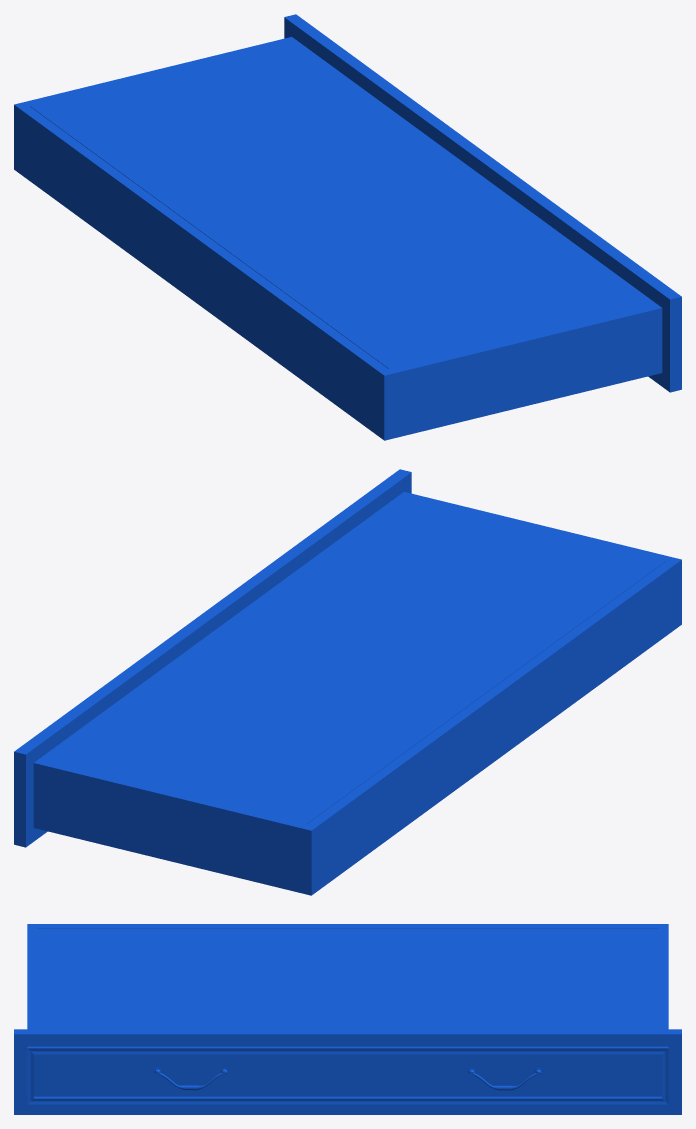
The model's file is CajoneraDoble_Low.fbx.
The picture shows the model from 3 angles, top to bottom: view 1: azimuth 30°, elevation 25°; view 2: azimuth 150°, elevation 25°; view 3: azimuth 270°, elevation 25°; orthographic projection. The views are drawn at different scales.
Parts seen in each view (by area): view 1: Base_Low, CajonDoble_Low; view 2: Base_Low, CajonDoble_Low; view 3: Base_Low, CajonDoble_Low.
Part boxes in pixels (x1,y1,x2,y2): Base_Low: [30, 20, 669, 437]; CajonDoble_Low: [14, 14, 681, 440]; Base_Low: [27, 472, 665, 889]; CajonDoble_Low: [14, 469, 681, 895]; Base_Low: [37, 928, 658, 1029]; CajonDoble_Low: [14, 924, 681, 1114].
Size of the model in its own units: 44.06 by 13.29 by 100.
